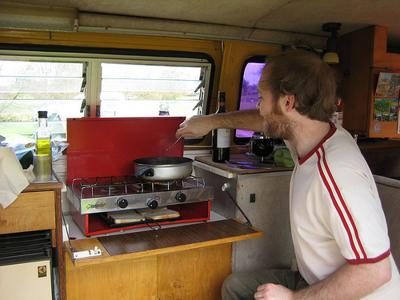person: (176, 52, 400, 300)
